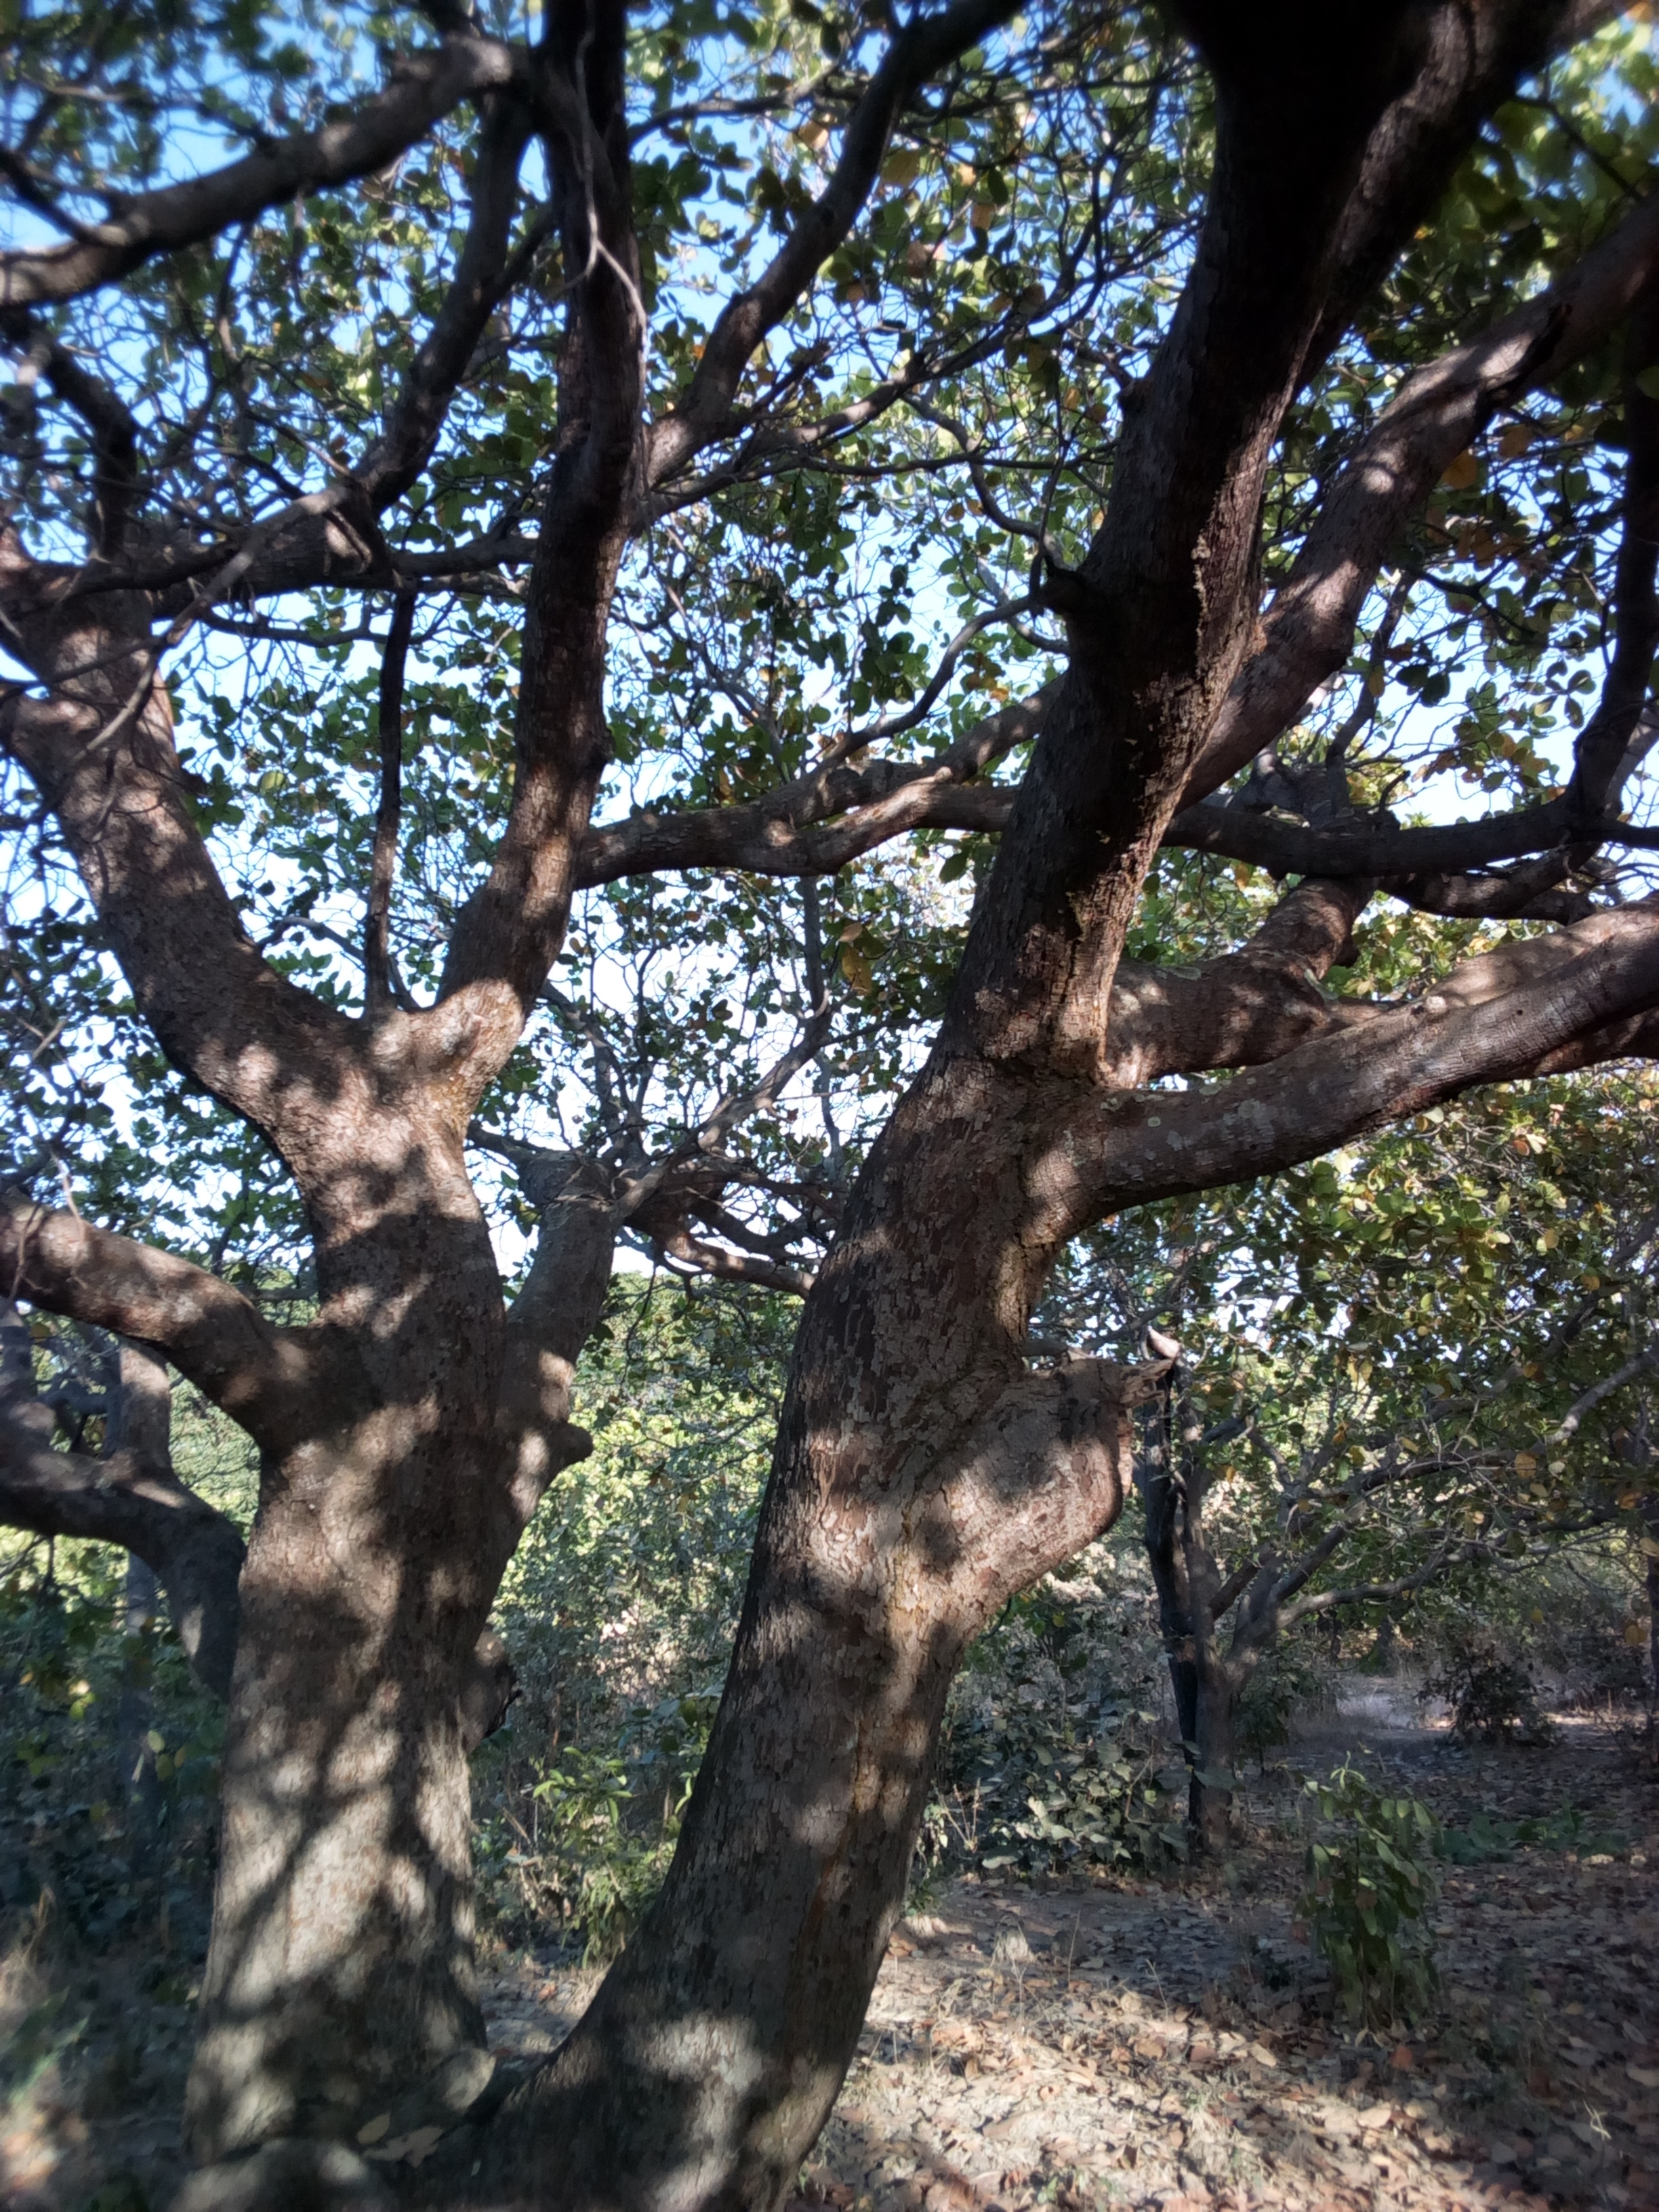Termites: (833, 838, 1141, 1648)
